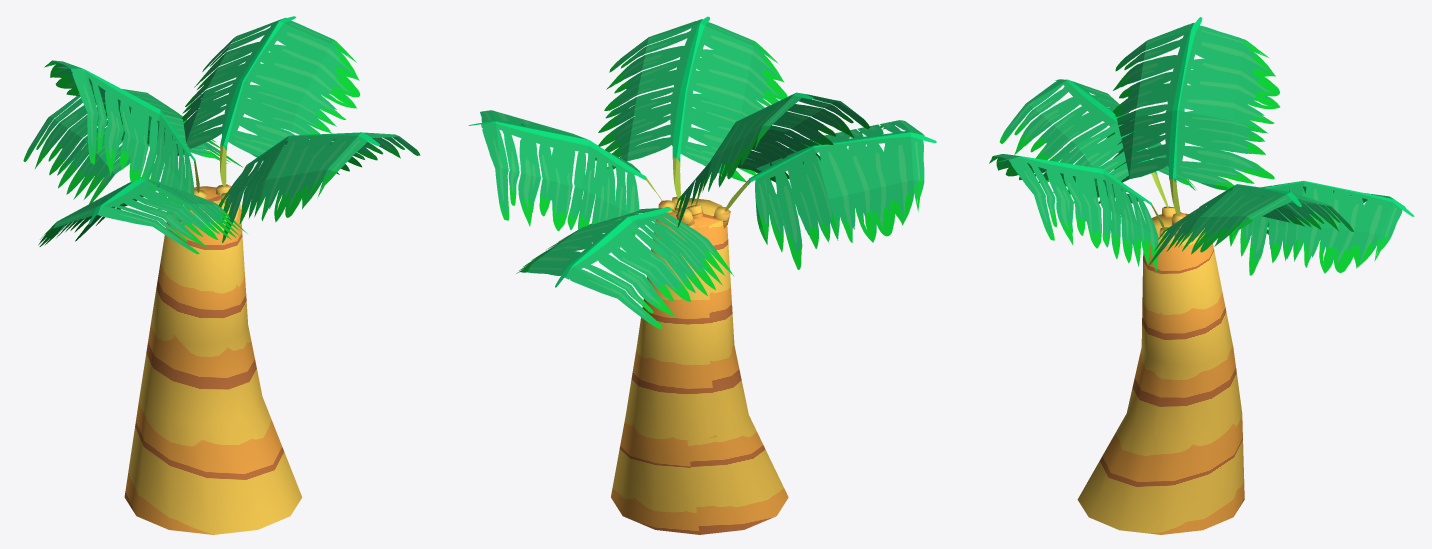
The model's file is palmera_1.fbx.
The picture shows the model from 3 angles, left to right: view 1: azimuth 30°, elevation 25°; view 2: azimuth 150°, elevation 25°; view 3: azimuth 270°, elevation 25°; orthographic projection. The views are drawn at different scales.
Visible parts, largest first — view 1: Cylinder.006; view 2: Cylinder.006; view 3: Cylinder.006.
Part boxes in pixels (bbox=[...]): Cylinder.006: bbox=[23, 16, 420, 534]; Cylinder.006: bbox=[468, 16, 936, 534]; Cylinder.006: bbox=[989, 17, 1414, 534].
Size of the model in its own units: 1105 by 1140 by 1101.
